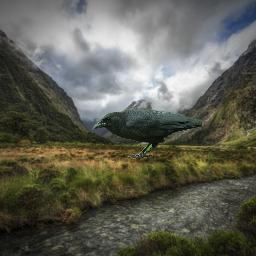Crow: (92, 108, 203, 160)
